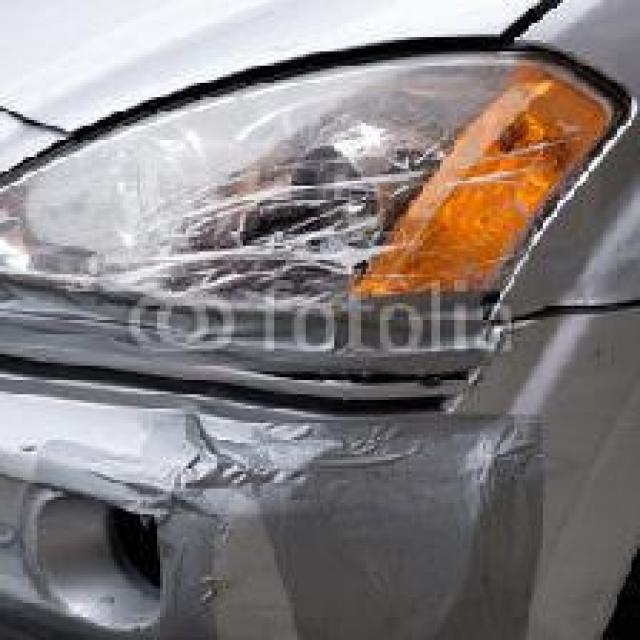damaged: (117, 408, 557, 614), (148, 134, 608, 286)
